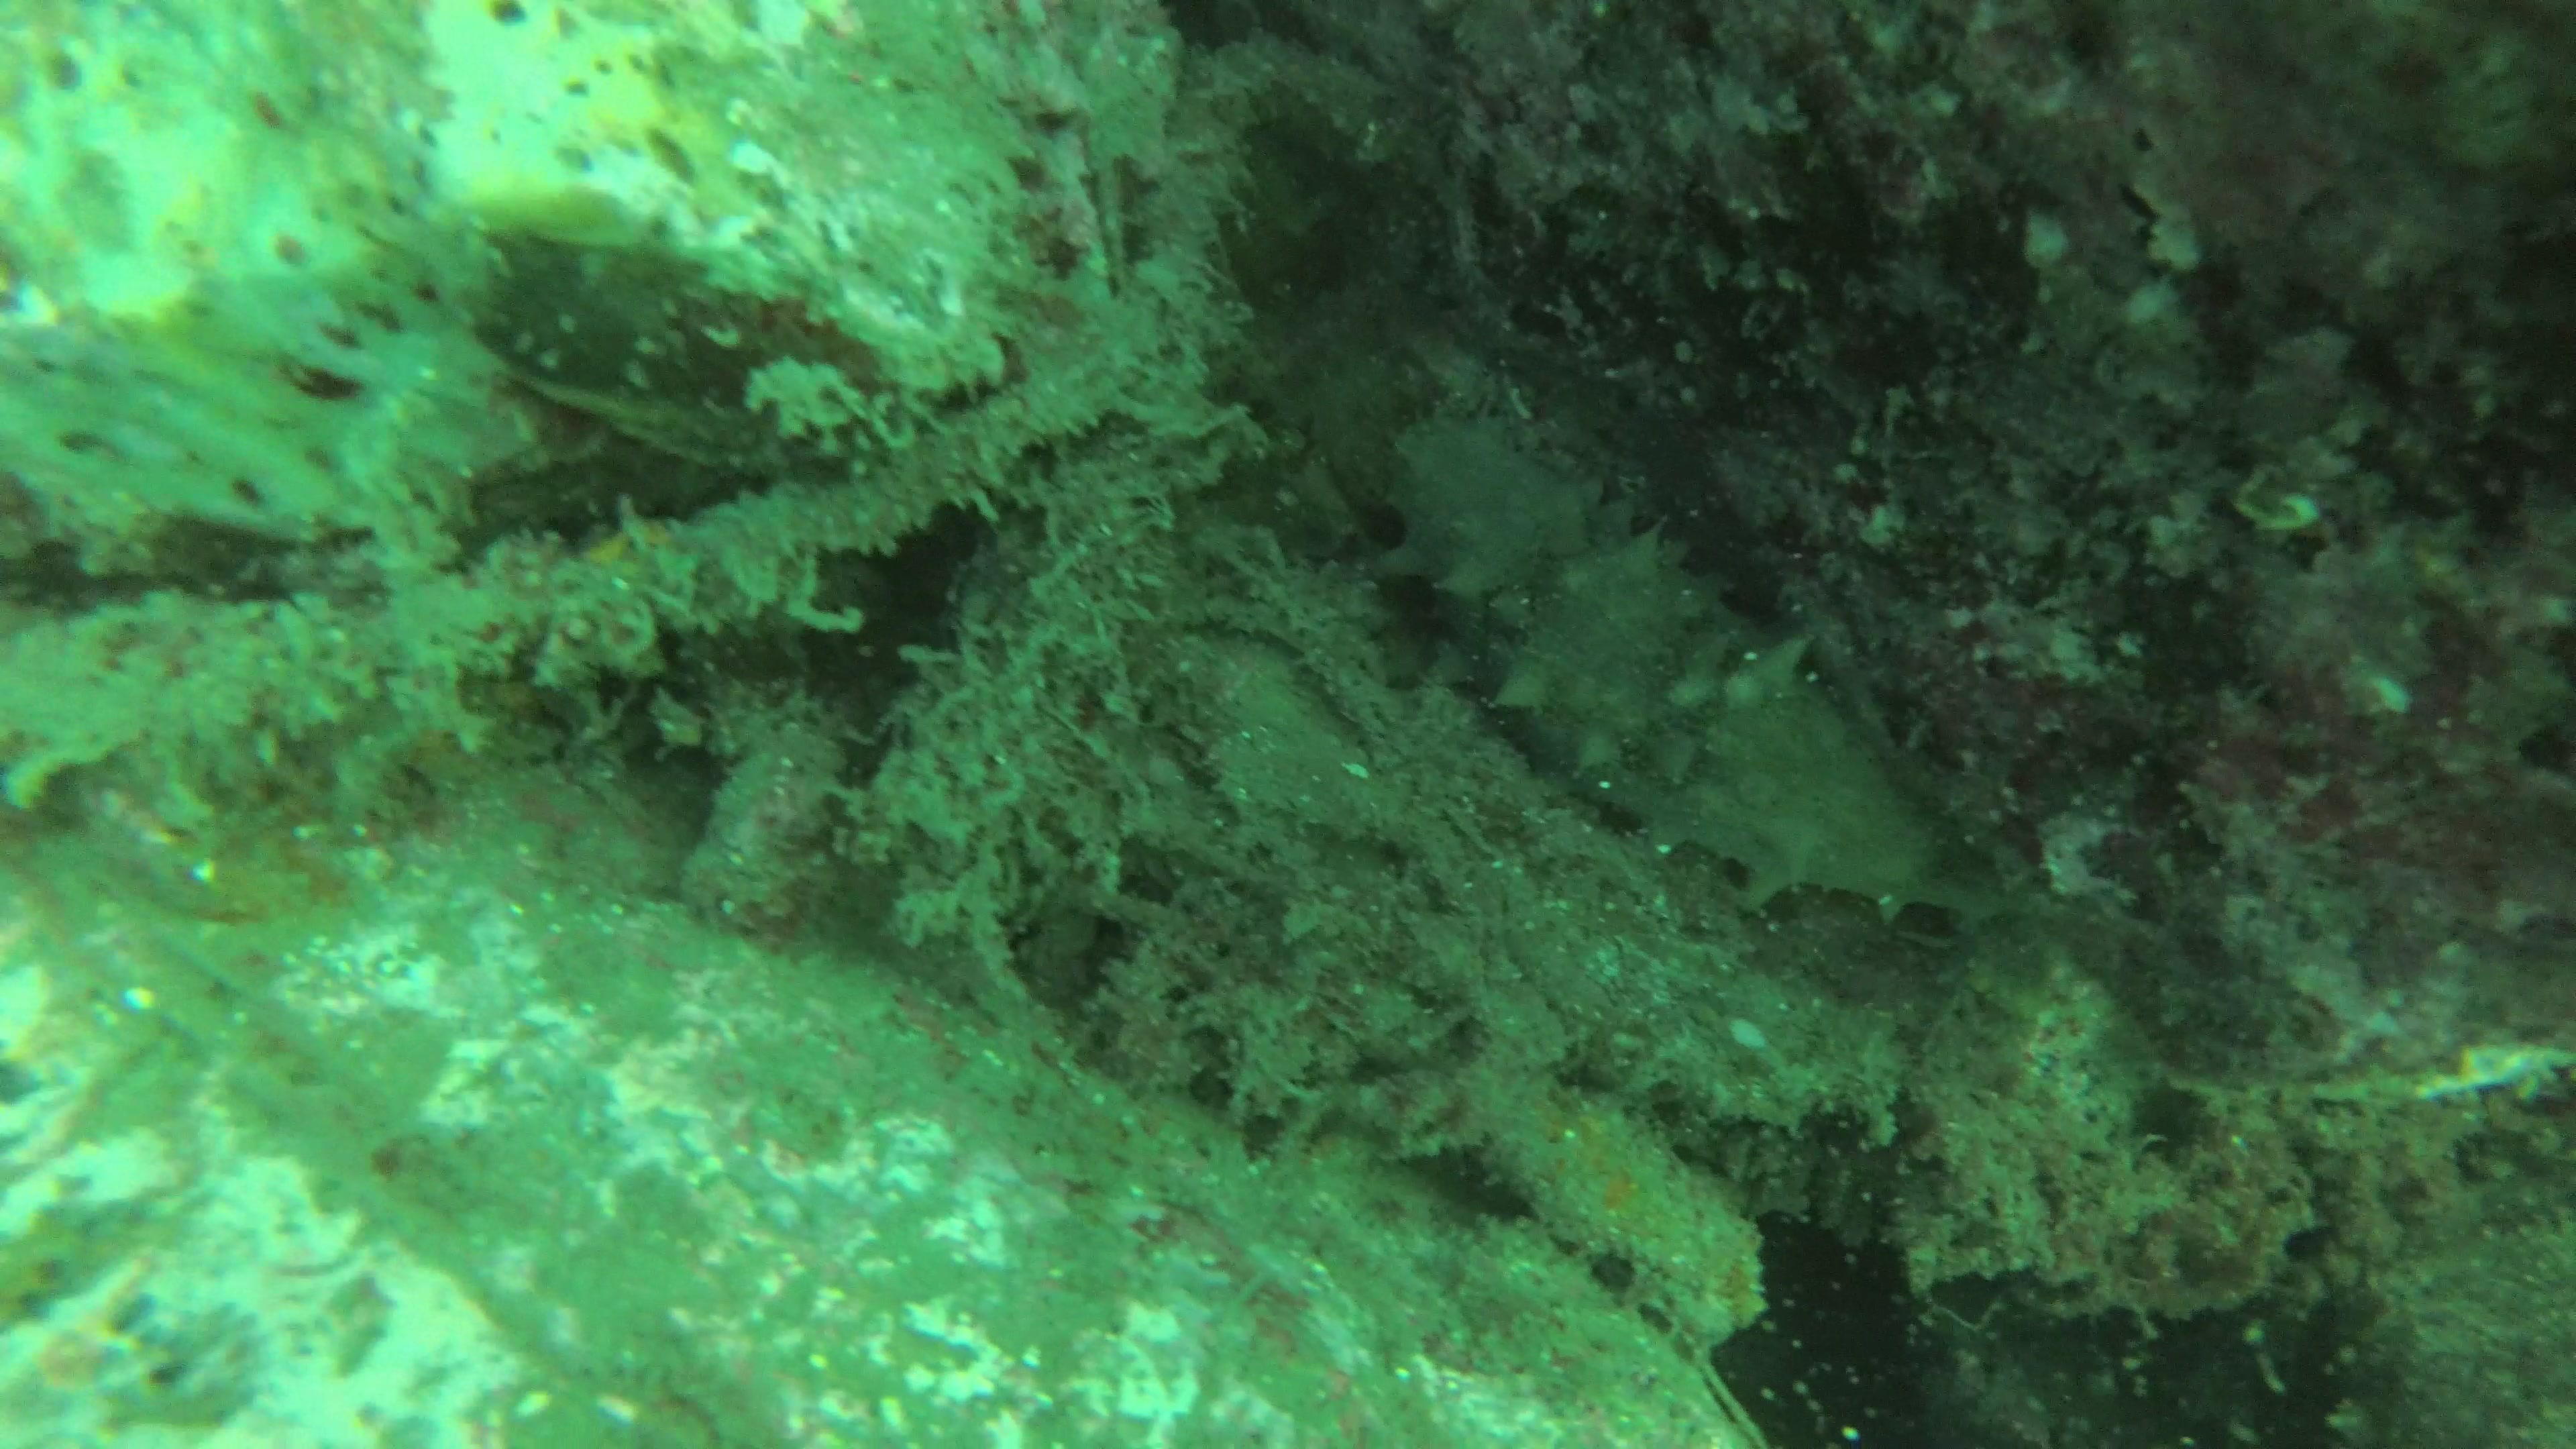holothurian: (1366, 395, 1971, 915)
